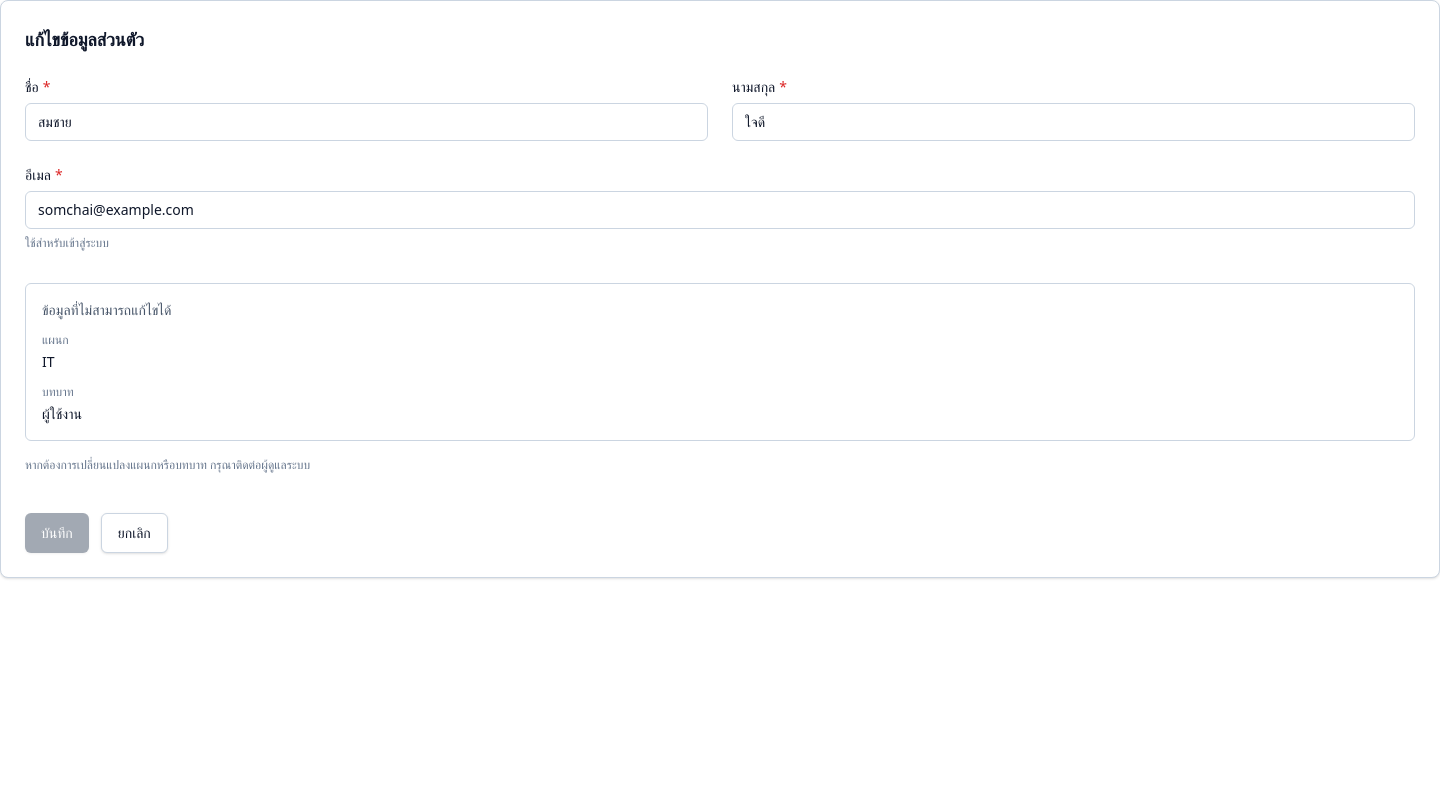
Test: ProfileEditForm Component › should show validation errors
The image size is (1440, 810).
Clear the field showing "สมชาย" at [366, 122], box [25, 103, 708, 141]
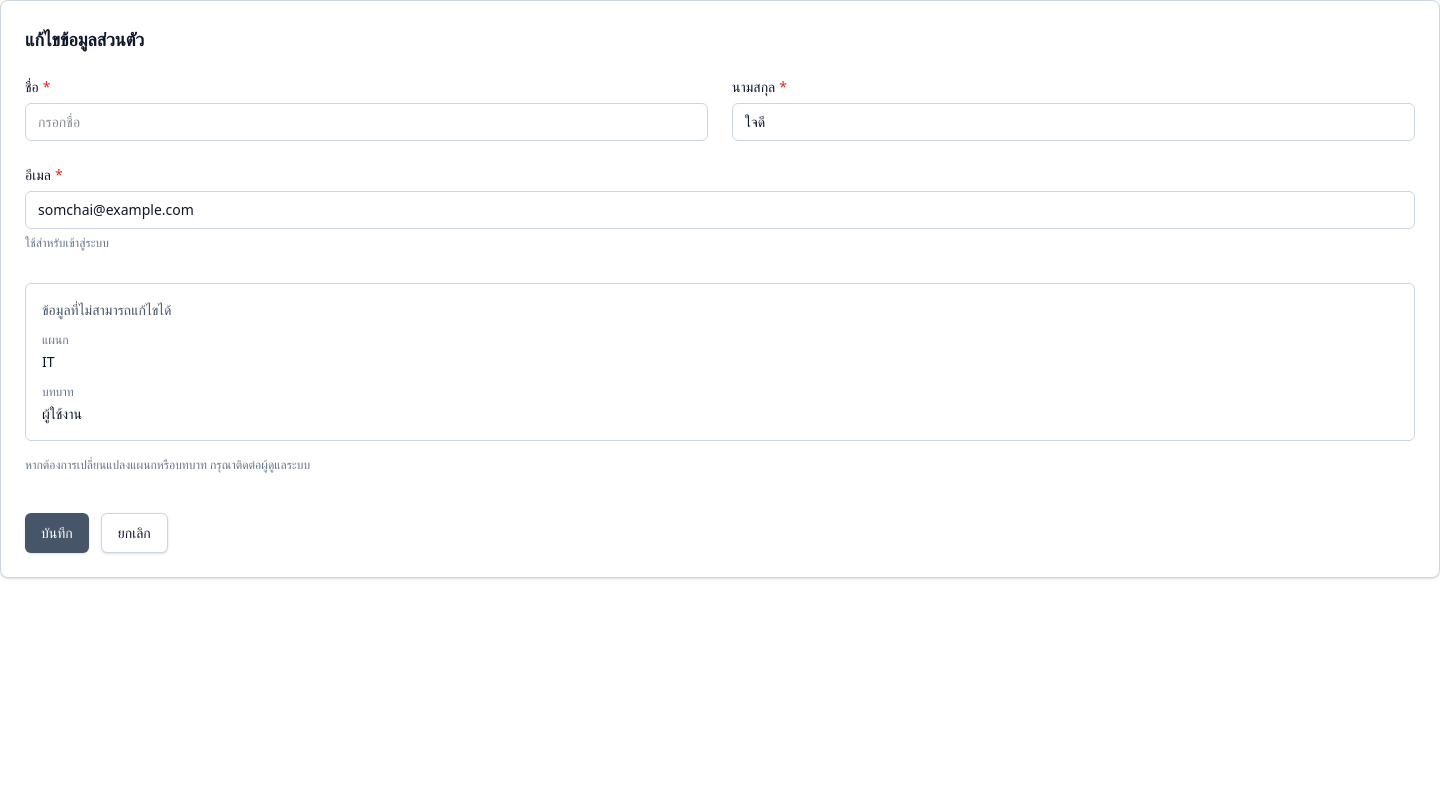
Click the button "บันทึก".
click(57, 533)  # box [25, 513, 89, 553]
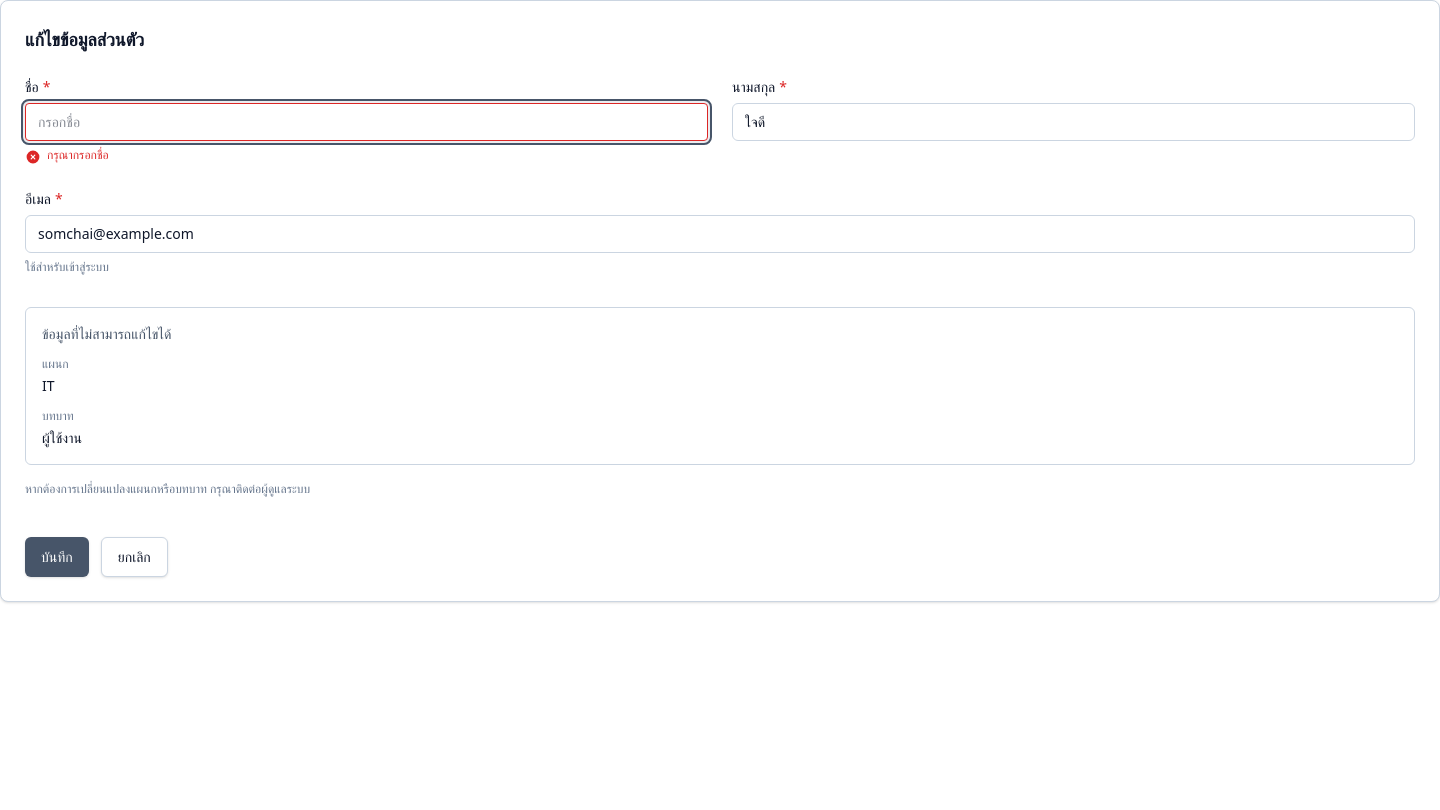
Expected: the text "กรุณากรอกชื่อ" is shown, [47, 147, 109, 163]
